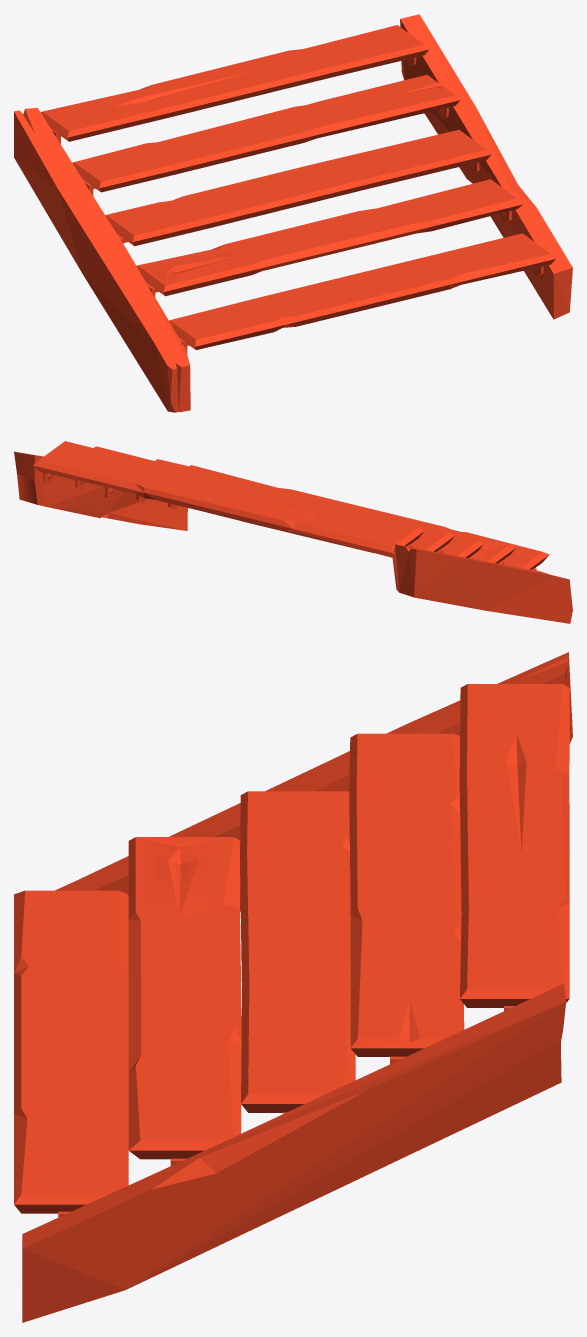
Rendered from SM_Pier_Stairs_City.fbx.
3 views of the same model, one above another, from view 1: azimuth 30°, elevation 25°; view 2: azimuth 150°, elevation 25°; view 3: azimuth 270°, elevation 25° (orthographic). The views are drawn at different scales.
Parts seen in each view (by area): view 1: SM_Pier_Stairs_City; view 2: SM_Pier_Stairs_City; view 3: SM_Pier_Stairs_City.
Part boxes in pixels (x1,y1,x2,y2): SM_Pier_Stairs_City: [14, 14, 572, 412]; SM_Pier_Stairs_City: [14, 441, 572, 623]; SM_Pier_Stairs_City: [14, 652, 572, 1322].
Bounding box in the file's own units: 3 × 1.33 × 2.03.
